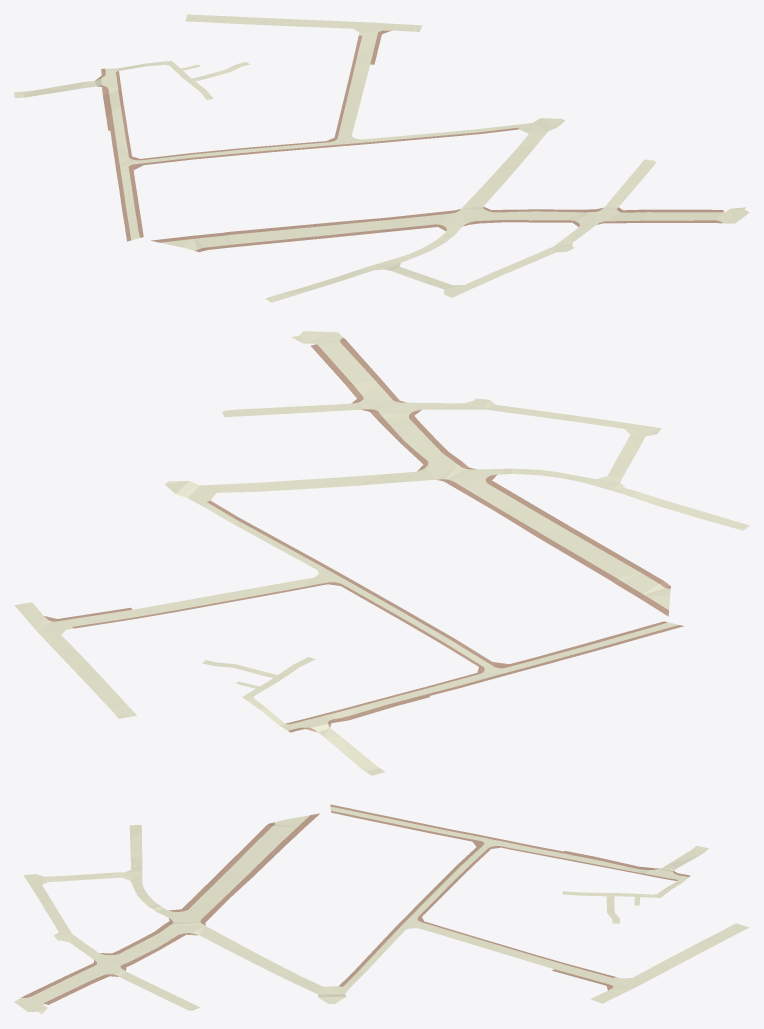
The model's file is data65.glb.
3 views of the same model, one above another, from view 1: azimuth 30°, elevation 25°; view 2: azimuth 150°, elevation 25°; view 3: azimuth 270°, elevation 25° (orthographic). The views are drawn at different scales.
Size of the model in its own units: 255 by 15.78 by 340.
